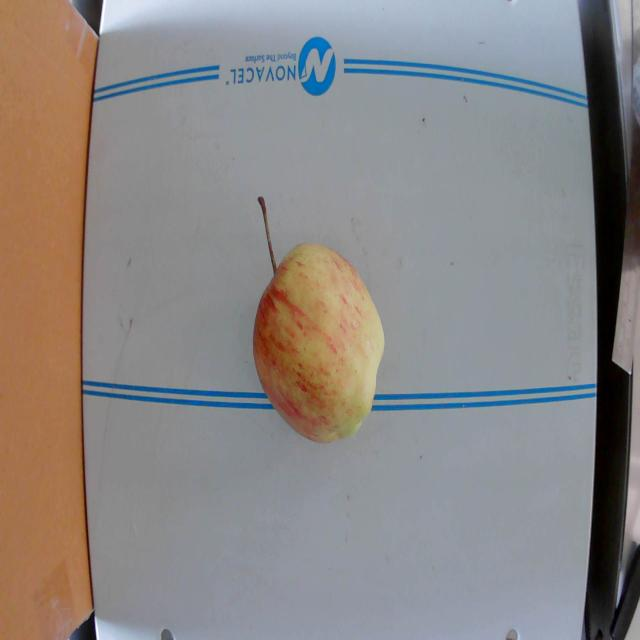apple: (253, 187, 386, 447)
